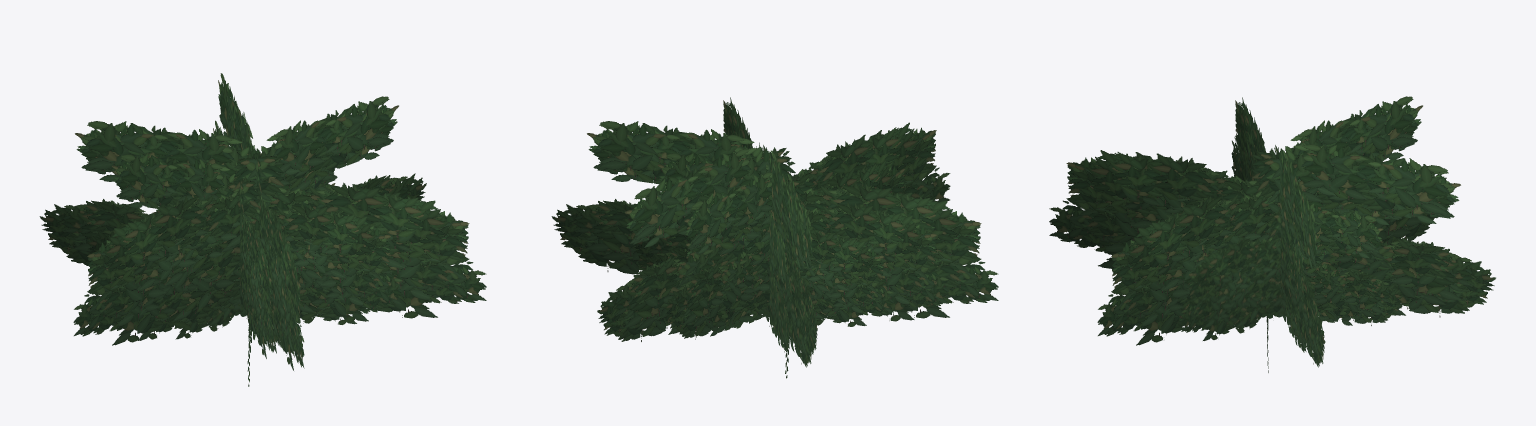
File: canopy_cuyabeno_hp_LOD2.glb
3 views of the same model, side by side, from view 1: azimuth 30°, elevation 25°; view 2: azimuth 150°, elevation 25°; view 3: azimuth 270°, elevation 25° (orthographic).
Visible parts, largest first — view 1: Canopy_Clump_Large_LOD2, Canopy_Clump_Medium_LOD2, Canopy_Clump_Small_LOD2; view 2: Canopy_Clump_Large_LOD2, Canopy_Clump_Medium_LOD2, Canopy_Clump_Small_LOD2; view 3: Canopy_Clump_Large_LOD2, Canopy_Clump_Small_LOD2.
Part boxes in pixels (x1=…): Canopy_Clump_Large_LOD2: x1=39, y1=73, x2=486, y2=370; Canopy_Clump_Medium_LOD2: x1=86, y1=120, x2=403, y2=358; Canopy_Clump_Small_LOD2: x1=156, y1=183, x2=378, y2=353; Canopy_Clump_Large_LOD2: x1=551, y1=97, x2=998, y2=367; Canopy_Clump_Medium_LOD2: x1=634, y1=142, x2=948, y2=354; Canopy_Clump_Small_LOD2: x1=645, y1=210, x2=893, y2=352; Canopy_Clump_Large_LOD2: x1=1049, y1=96, x2=1495, y2=367; Canopy_Clump_Small_LOD2: x1=1181, y1=203, x2=1402, y2=352.
Size of the model in its own units: 14.68 by 8.43 by 14.2.
Materials: 1 (1 with a texture image).
